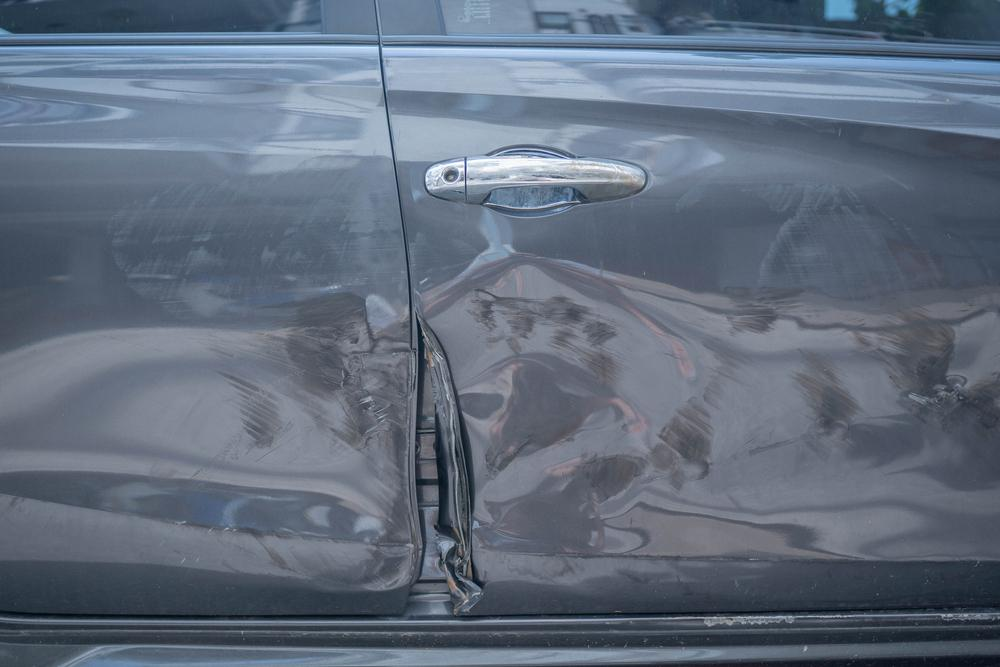dent: (424, 258, 1000, 588), (0, 288, 414, 542)
